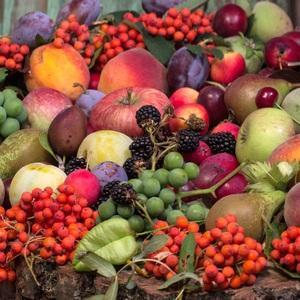apple: (89, 87, 170, 133), (234, 108, 296, 160), (21, 89, 70, 126)
